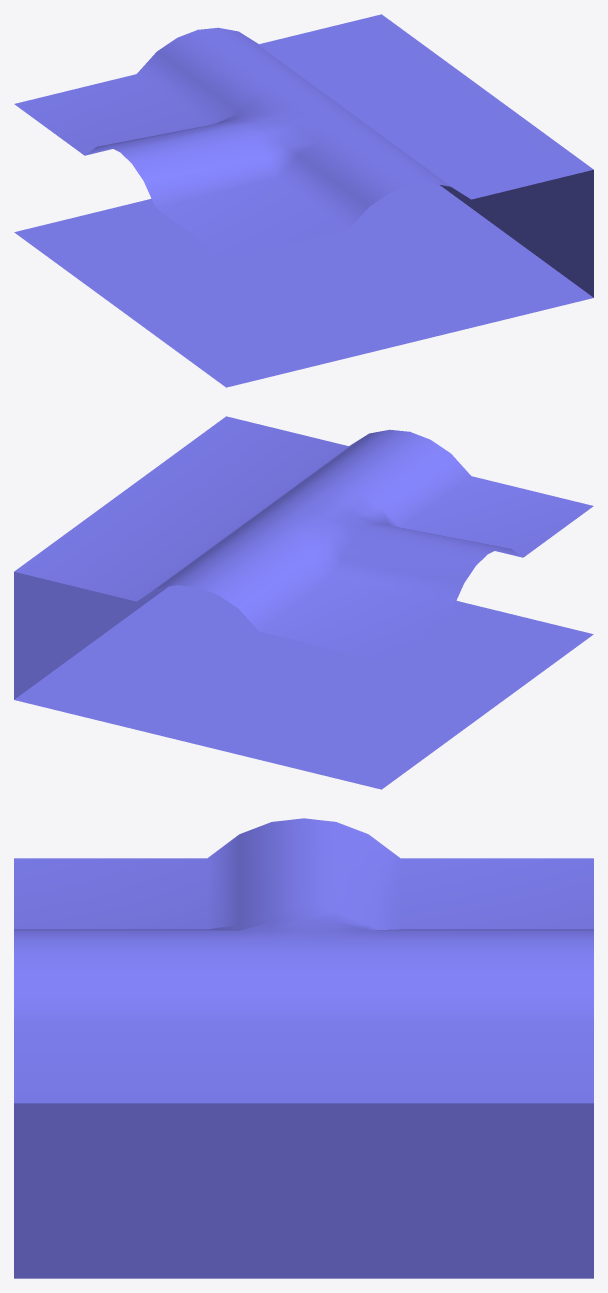
File: 3way.fbx
The picture shows the model from 3 angles, top to bottom: view 1: azimuth 30°, elevation 25°; view 2: azimuth 150°, elevation 25°; view 3: azimuth 270°, elevation 25°; orthographic projection. The views are drawn at different scales.
Parts seen in each view (by area): view 1: pPlane4; view 2: pPlane4; view 3: pPlane4.
Boxes of the visible parts, box(x1,y1,x2,y2) form: pPlane4: box(14, 14, 593, 387); pPlane4: box(14, 416, 593, 789); pPlane4: box(14, 818, 593, 1278).
Size of the model in its own units: 1500 by 614 by 1500.
